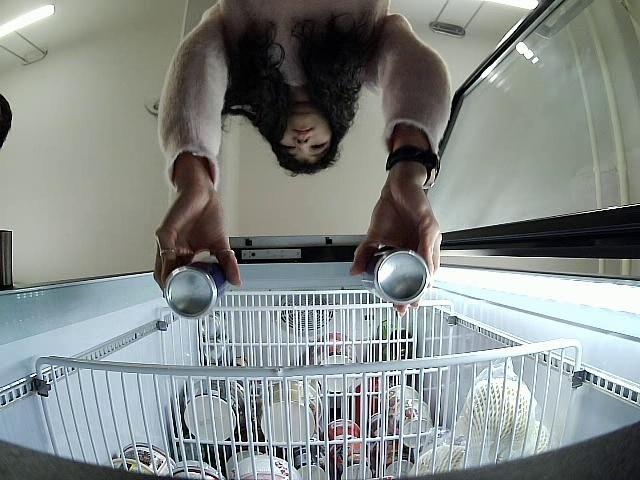16_hot6: (163, 255, 230, 318), (360, 246, 430, 305)
